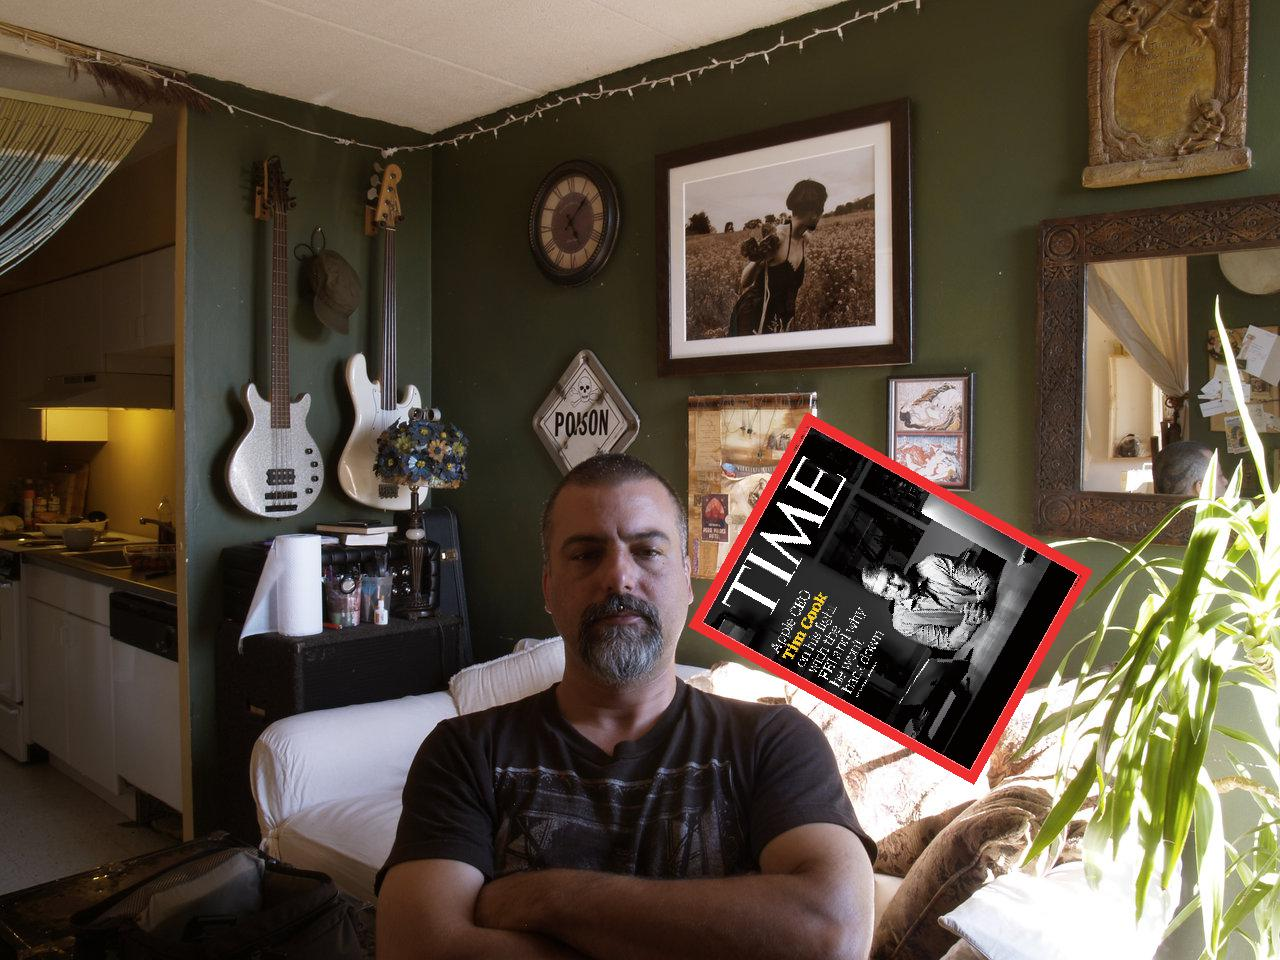times: (684, 409, 1089, 778)
